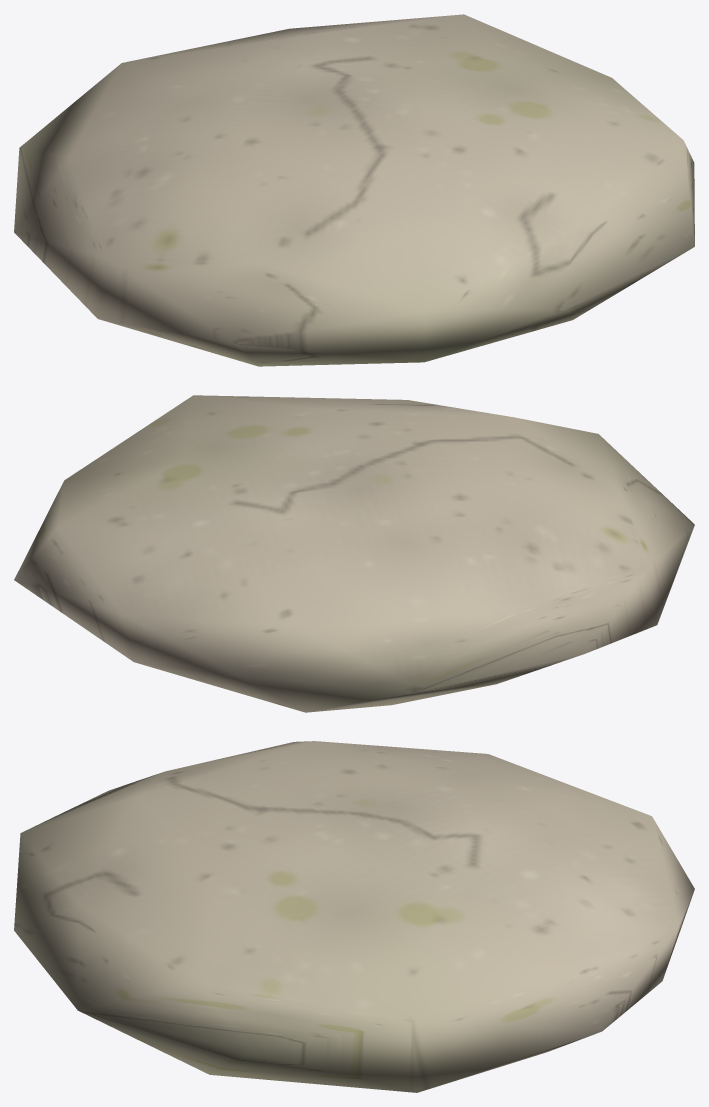
File: region-prop-231.glb
The picture shows the model from 3 angles, top to bottom: view 1: azimuth 30°, elevation 25°; view 2: azimuth 150°, elevation 25°; view 3: azimuth 270°, elevation 25°; orthographic projection. The views are drawn at different scales.
Visible parts, largest first — view 1: props_rock_0; view 2: props_rock_0; view 3: props_rock_0.
Part boxes in pixels (x1,y1,x2,y2): props_rock_0: [14, 14, 694, 366]; props_rock_0: [14, 395, 694, 712]; props_rock_0: [14, 741, 694, 1092].
Size of the model in its own units: 0.5377 by 0.1611 by 0.5198.
Materials: 1 (1 with a texture image).
